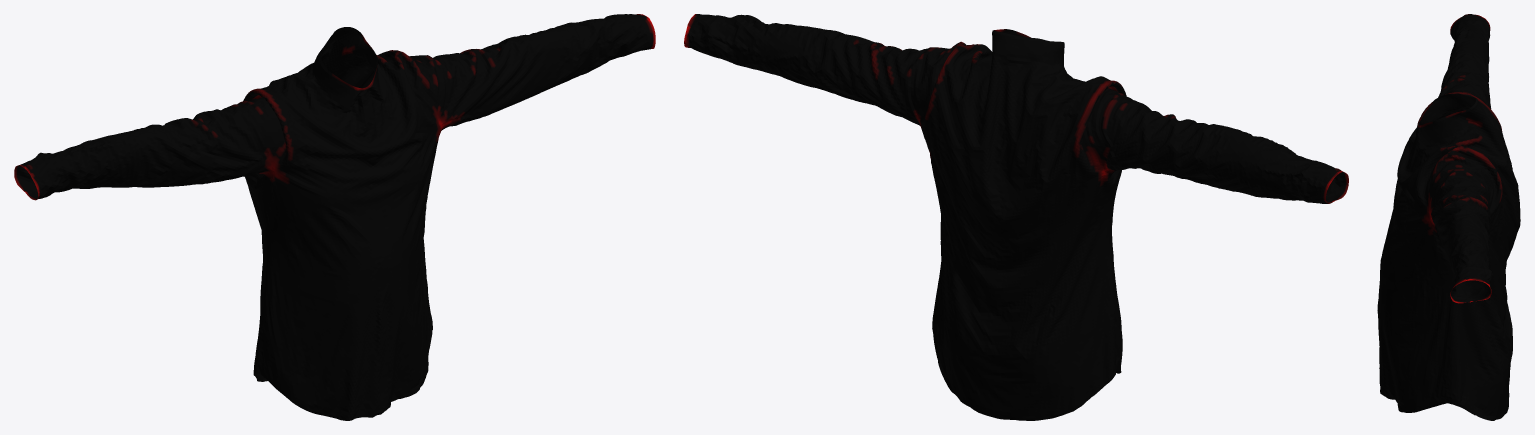
Rendered from heatMap.obj.
The picture shows the model from 3 angles, left to right: view 1: azimuth 30°, elevation 25°; view 2: azimuth 150°, elevation 25°; view 3: azimuth 270°, elevation 25°; orthographic projection. The views are drawn at different scales.
Bounding box in the file's own units: 58.28 × 31.72 × 13.23.
